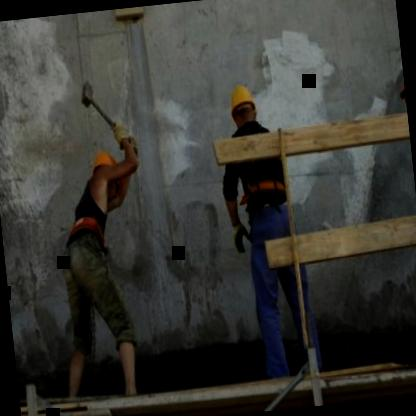helmet: (90, 146, 122, 204), (226, 79, 260, 133), (394, 63, 407, 116)
